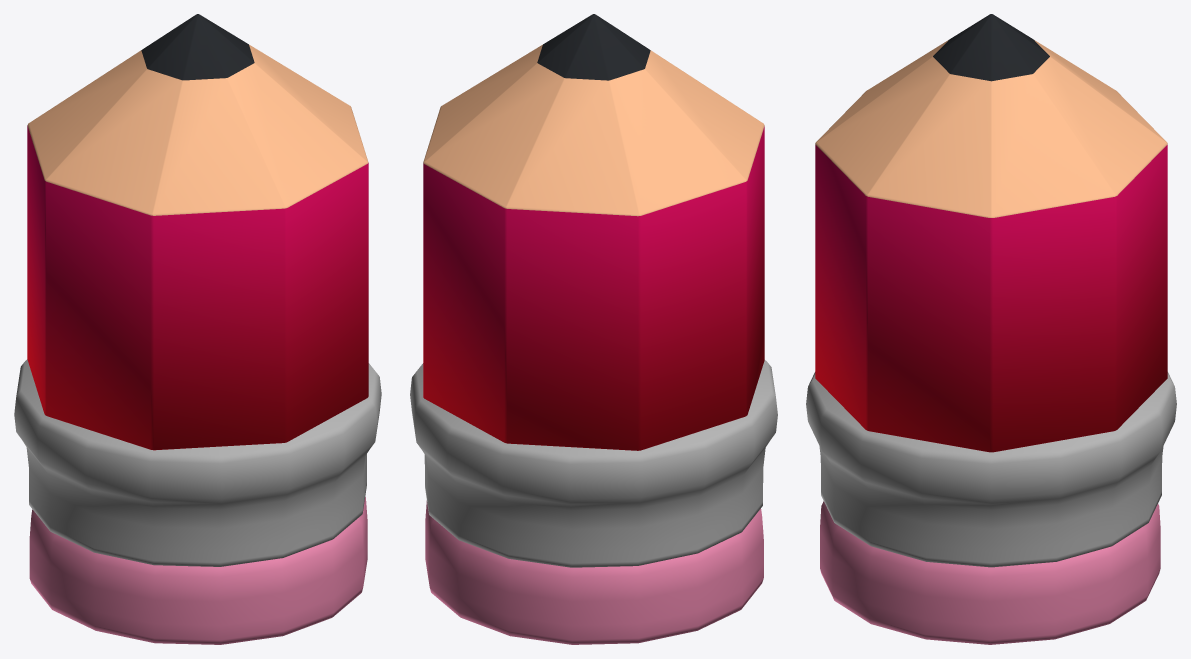
The model's file is Pencil.fbx.
3 renders of one model, left to right at view 1: azimuth 30°, elevation 25°; view 2: azimuth 150°, elevation 25°; view 3: azimuth 270°, elevation 25°, orthographic.
Visible parts, largest first — view 1: Pencil; view 2: Pencil; view 3: Pencil.
Part boxes in pixels (x1,y1,x2,y2): Pencil: (14, 14, 381, 644); Pencil: (410, 14, 777, 644); Pencil: (806, 14, 1176, 644).
Bounding box in the file's own units: 194 × 325 × 194.
